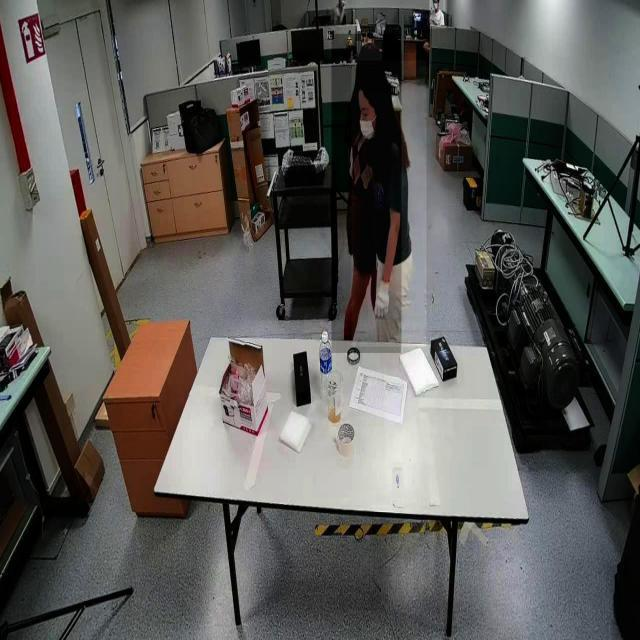gloves: (370, 274, 394, 322)
